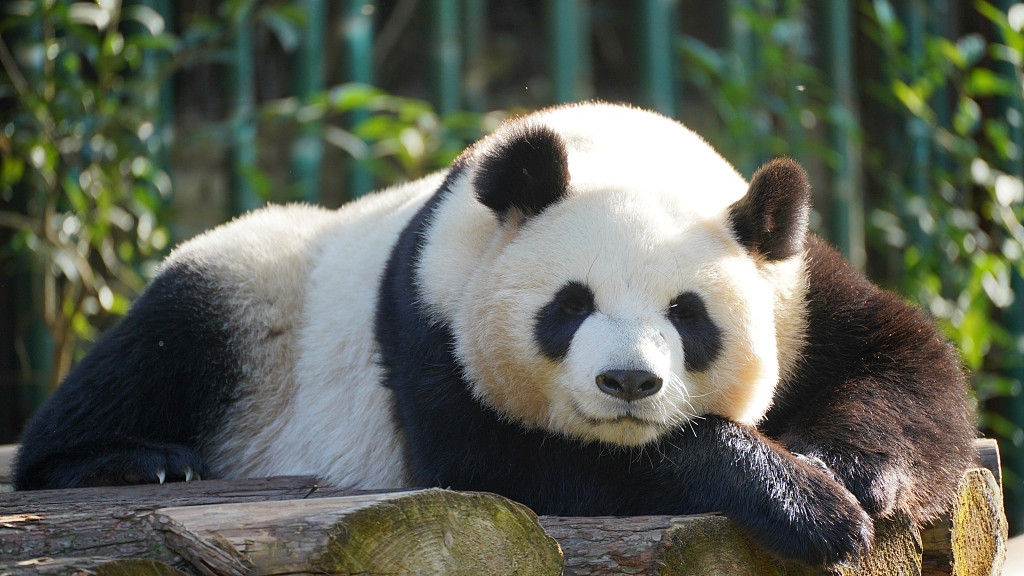Giant panda: (471, 123, 814, 446)
